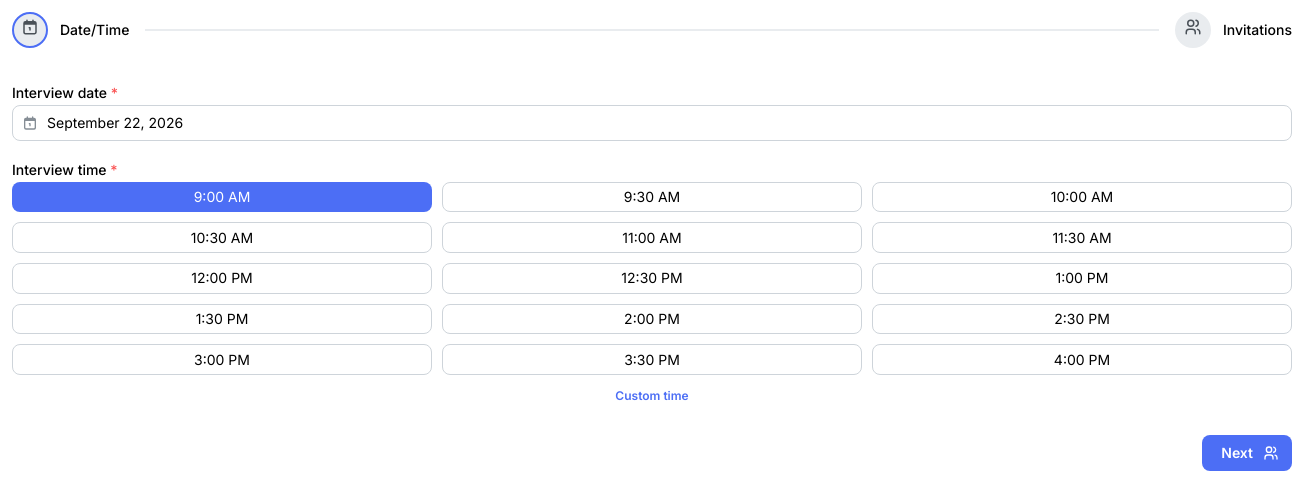
Scenario: scheduleForm › renders all form fields
Expected: the text "Interview date" is shown, [12,84,107,101]
Expected: the text "Interview time" is shown, [12,161,107,178]
Note: Navigate to step 2
Click the button "Next": [1247, 453] box [1202,435,1292,471]
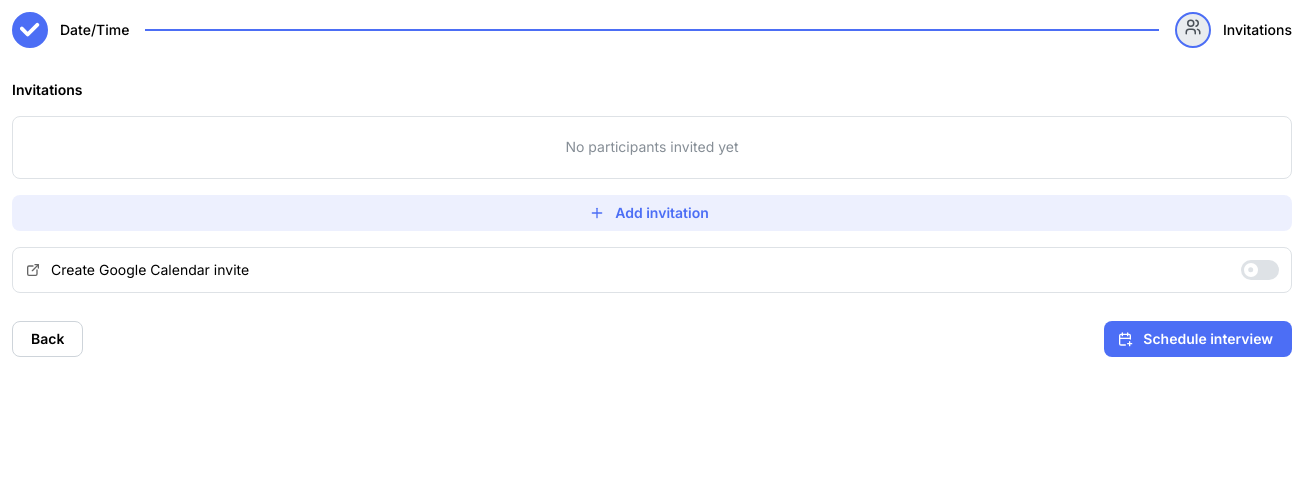
Expected: the button "Schedule interview" is shown, [1143,330,1273,347]
Expected: the text "No participants invited yet" is shown, [566,138,739,155]
Expected: the button "Add invitation" is shown, [615,204,709,221]
